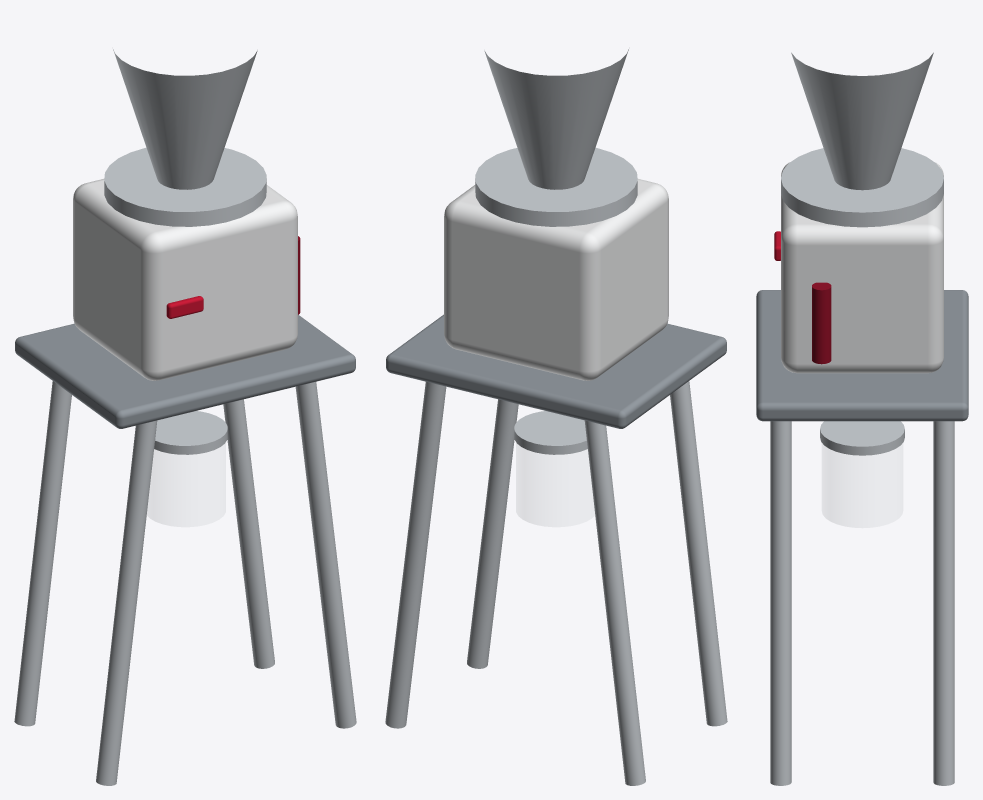
File: nbo-1.glb
3 views of the same model, side by side, from view 1: azimuth 30°, elevation 25°; view 2: azimuth 150°, elevation 25°; view 3: azimuth 270°, elevation 25° (orthographic).
Bounding box in the file's own units: 0.3657 × 0.9198 × 0.26.
